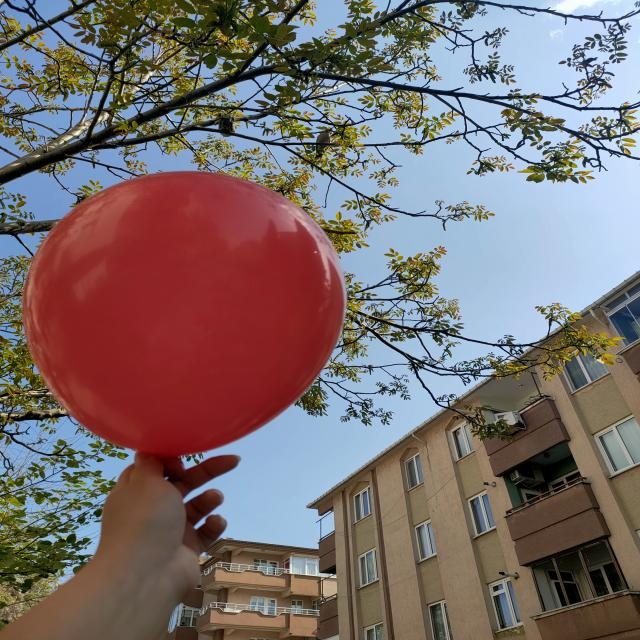red: (30, 171, 342, 457)
